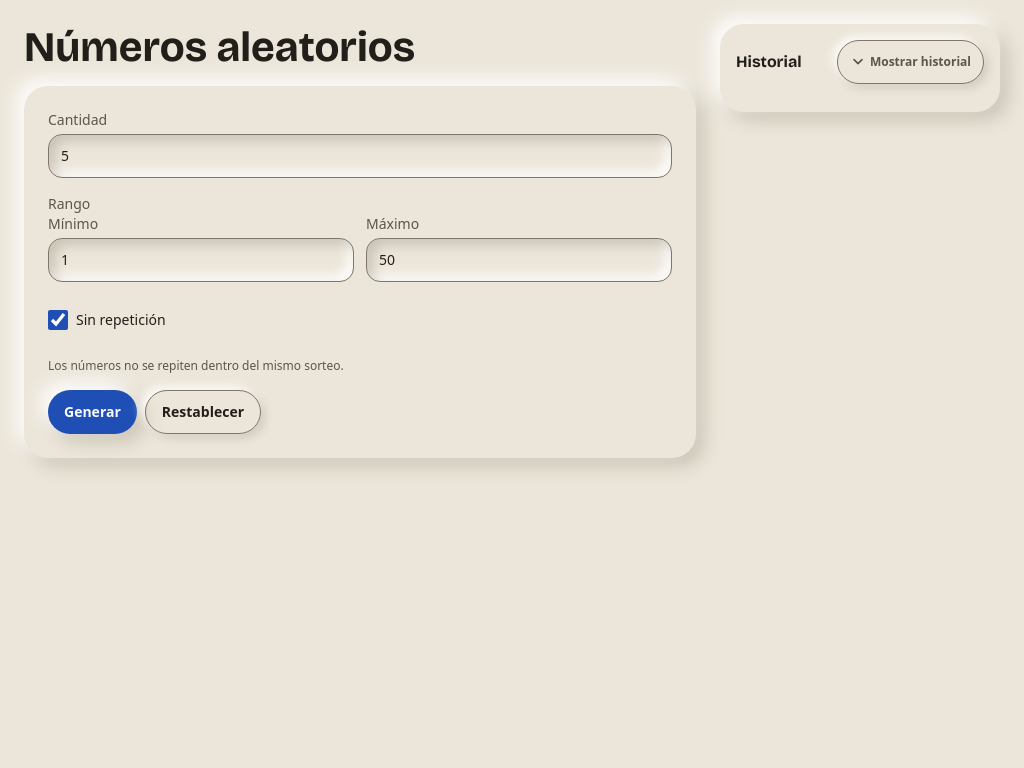
Test: NumbersPage — formulario › el mínimo se aplica al enviar cuando el campo quedó vacío
The image size is (1024, 768).
Step 1. Clear the number field labelled "Cantidad" → point(360, 156), box [48,134,672,178]
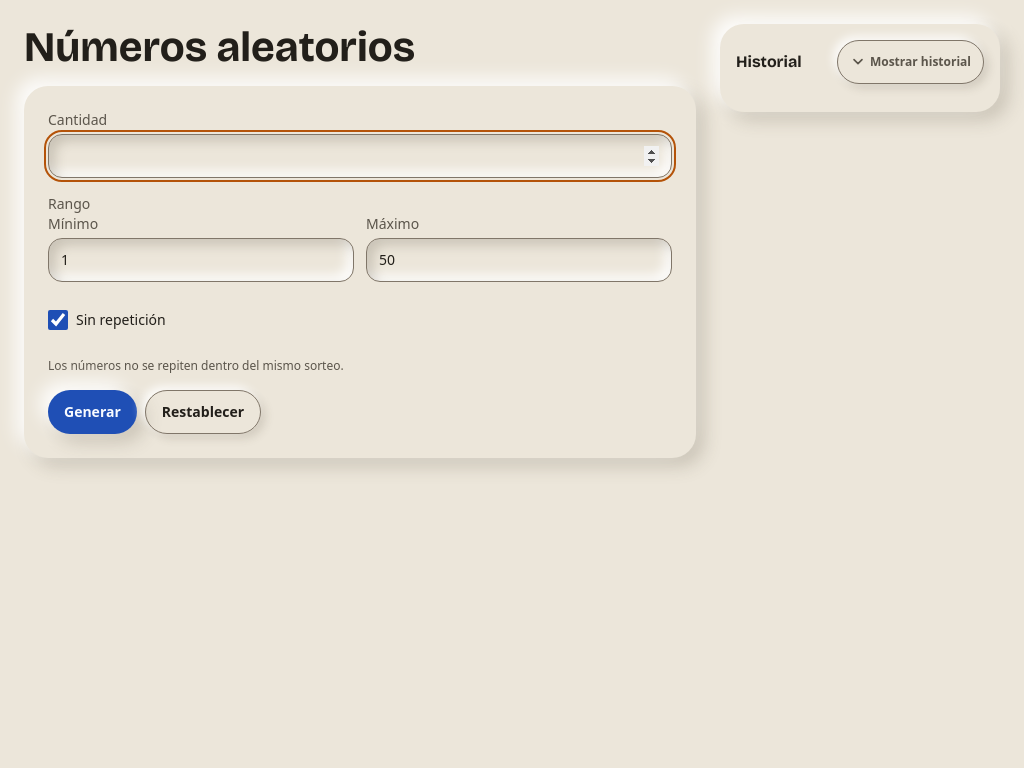
Step 2. Click the button "Generar" → point(92, 412), box [48,390,137,434]
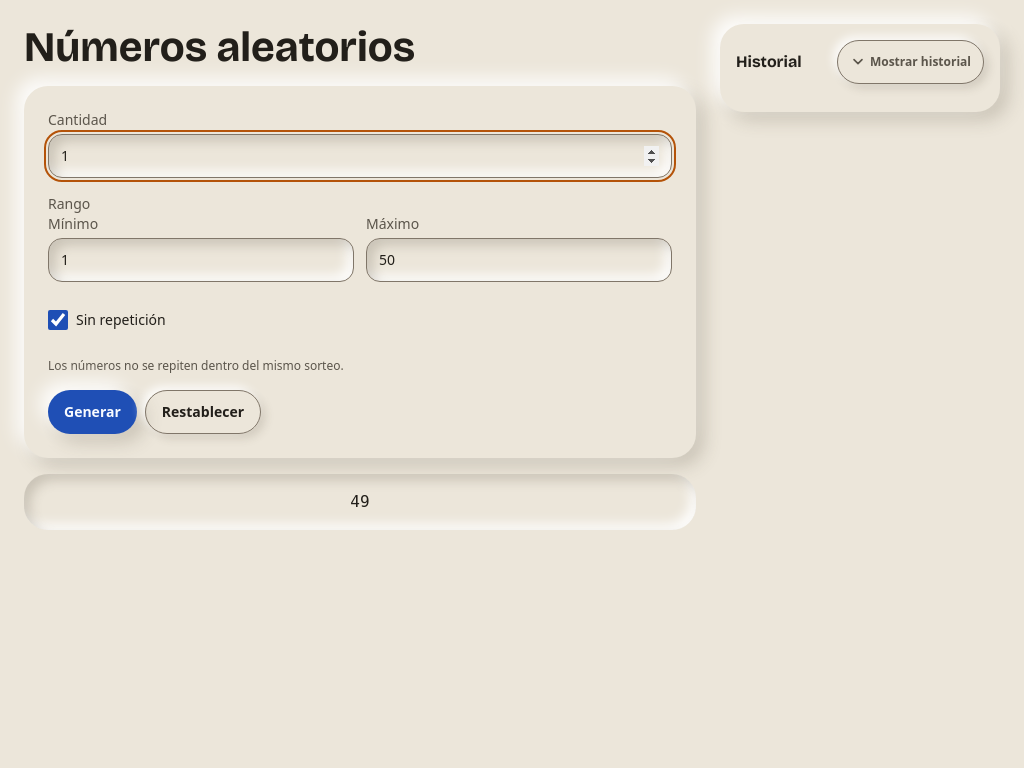
Check: the number field labelled "Cantidad" holds "1", box [48,134,672,178]
Check: the text "49" is shown, box [24,474,696,530]
